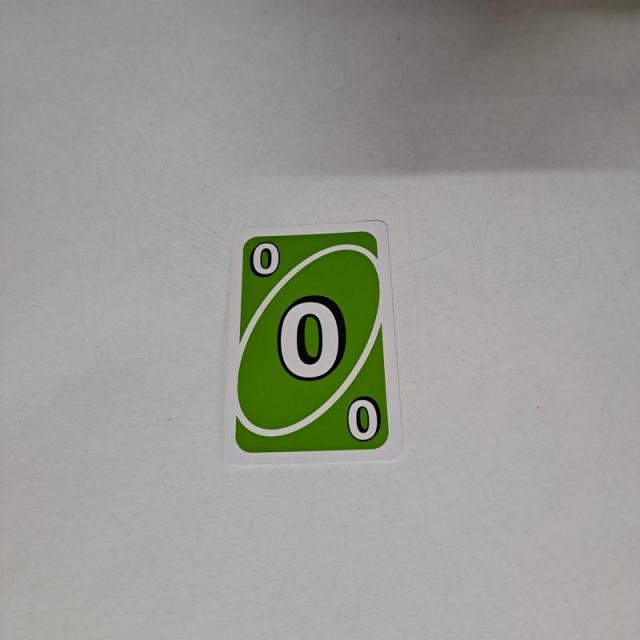Green_Card: (232, 227, 393, 459)
Number_0: (248, 239, 284, 281)
